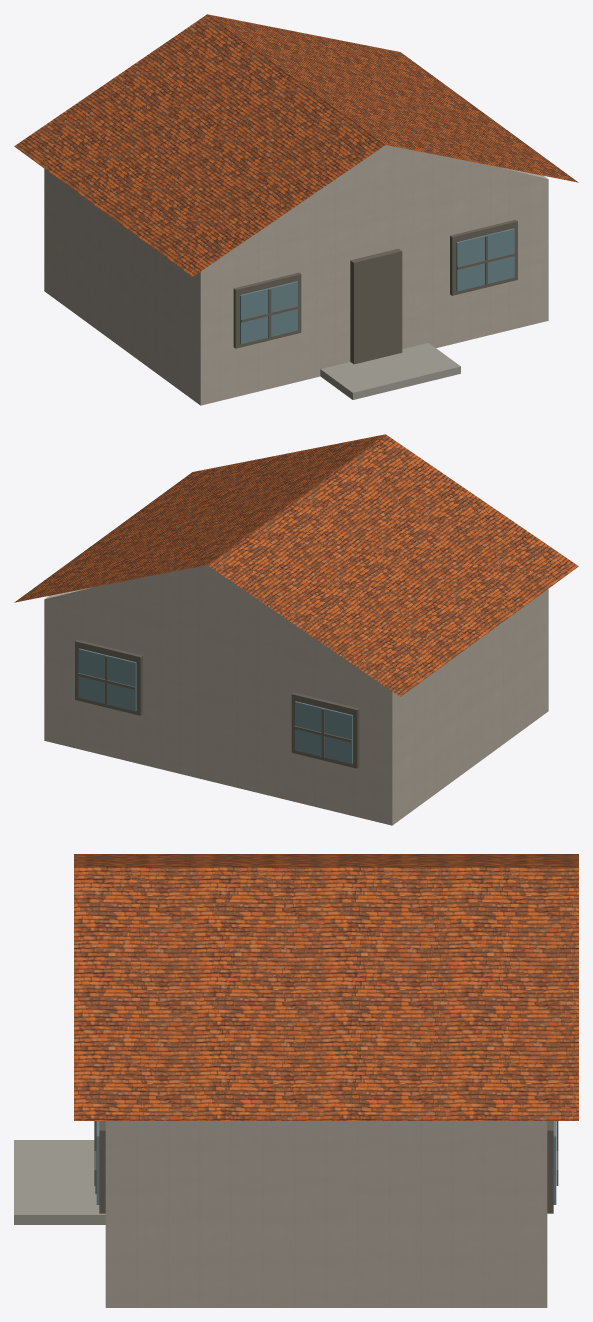
File: house.gltf
The picture shows the model from 3 angles, top to bottom: view 1: azimuth 30°, elevation 25°; view 2: azimuth 150°, elevation 25°; view 3: azimuth 270°, elevation 25°; orthographic projection. The views are drawn at different scales.
Bounding box in the file's own units: 10 × 5.6 × 8.95.
Materials: 5 (2 with a texture image).
